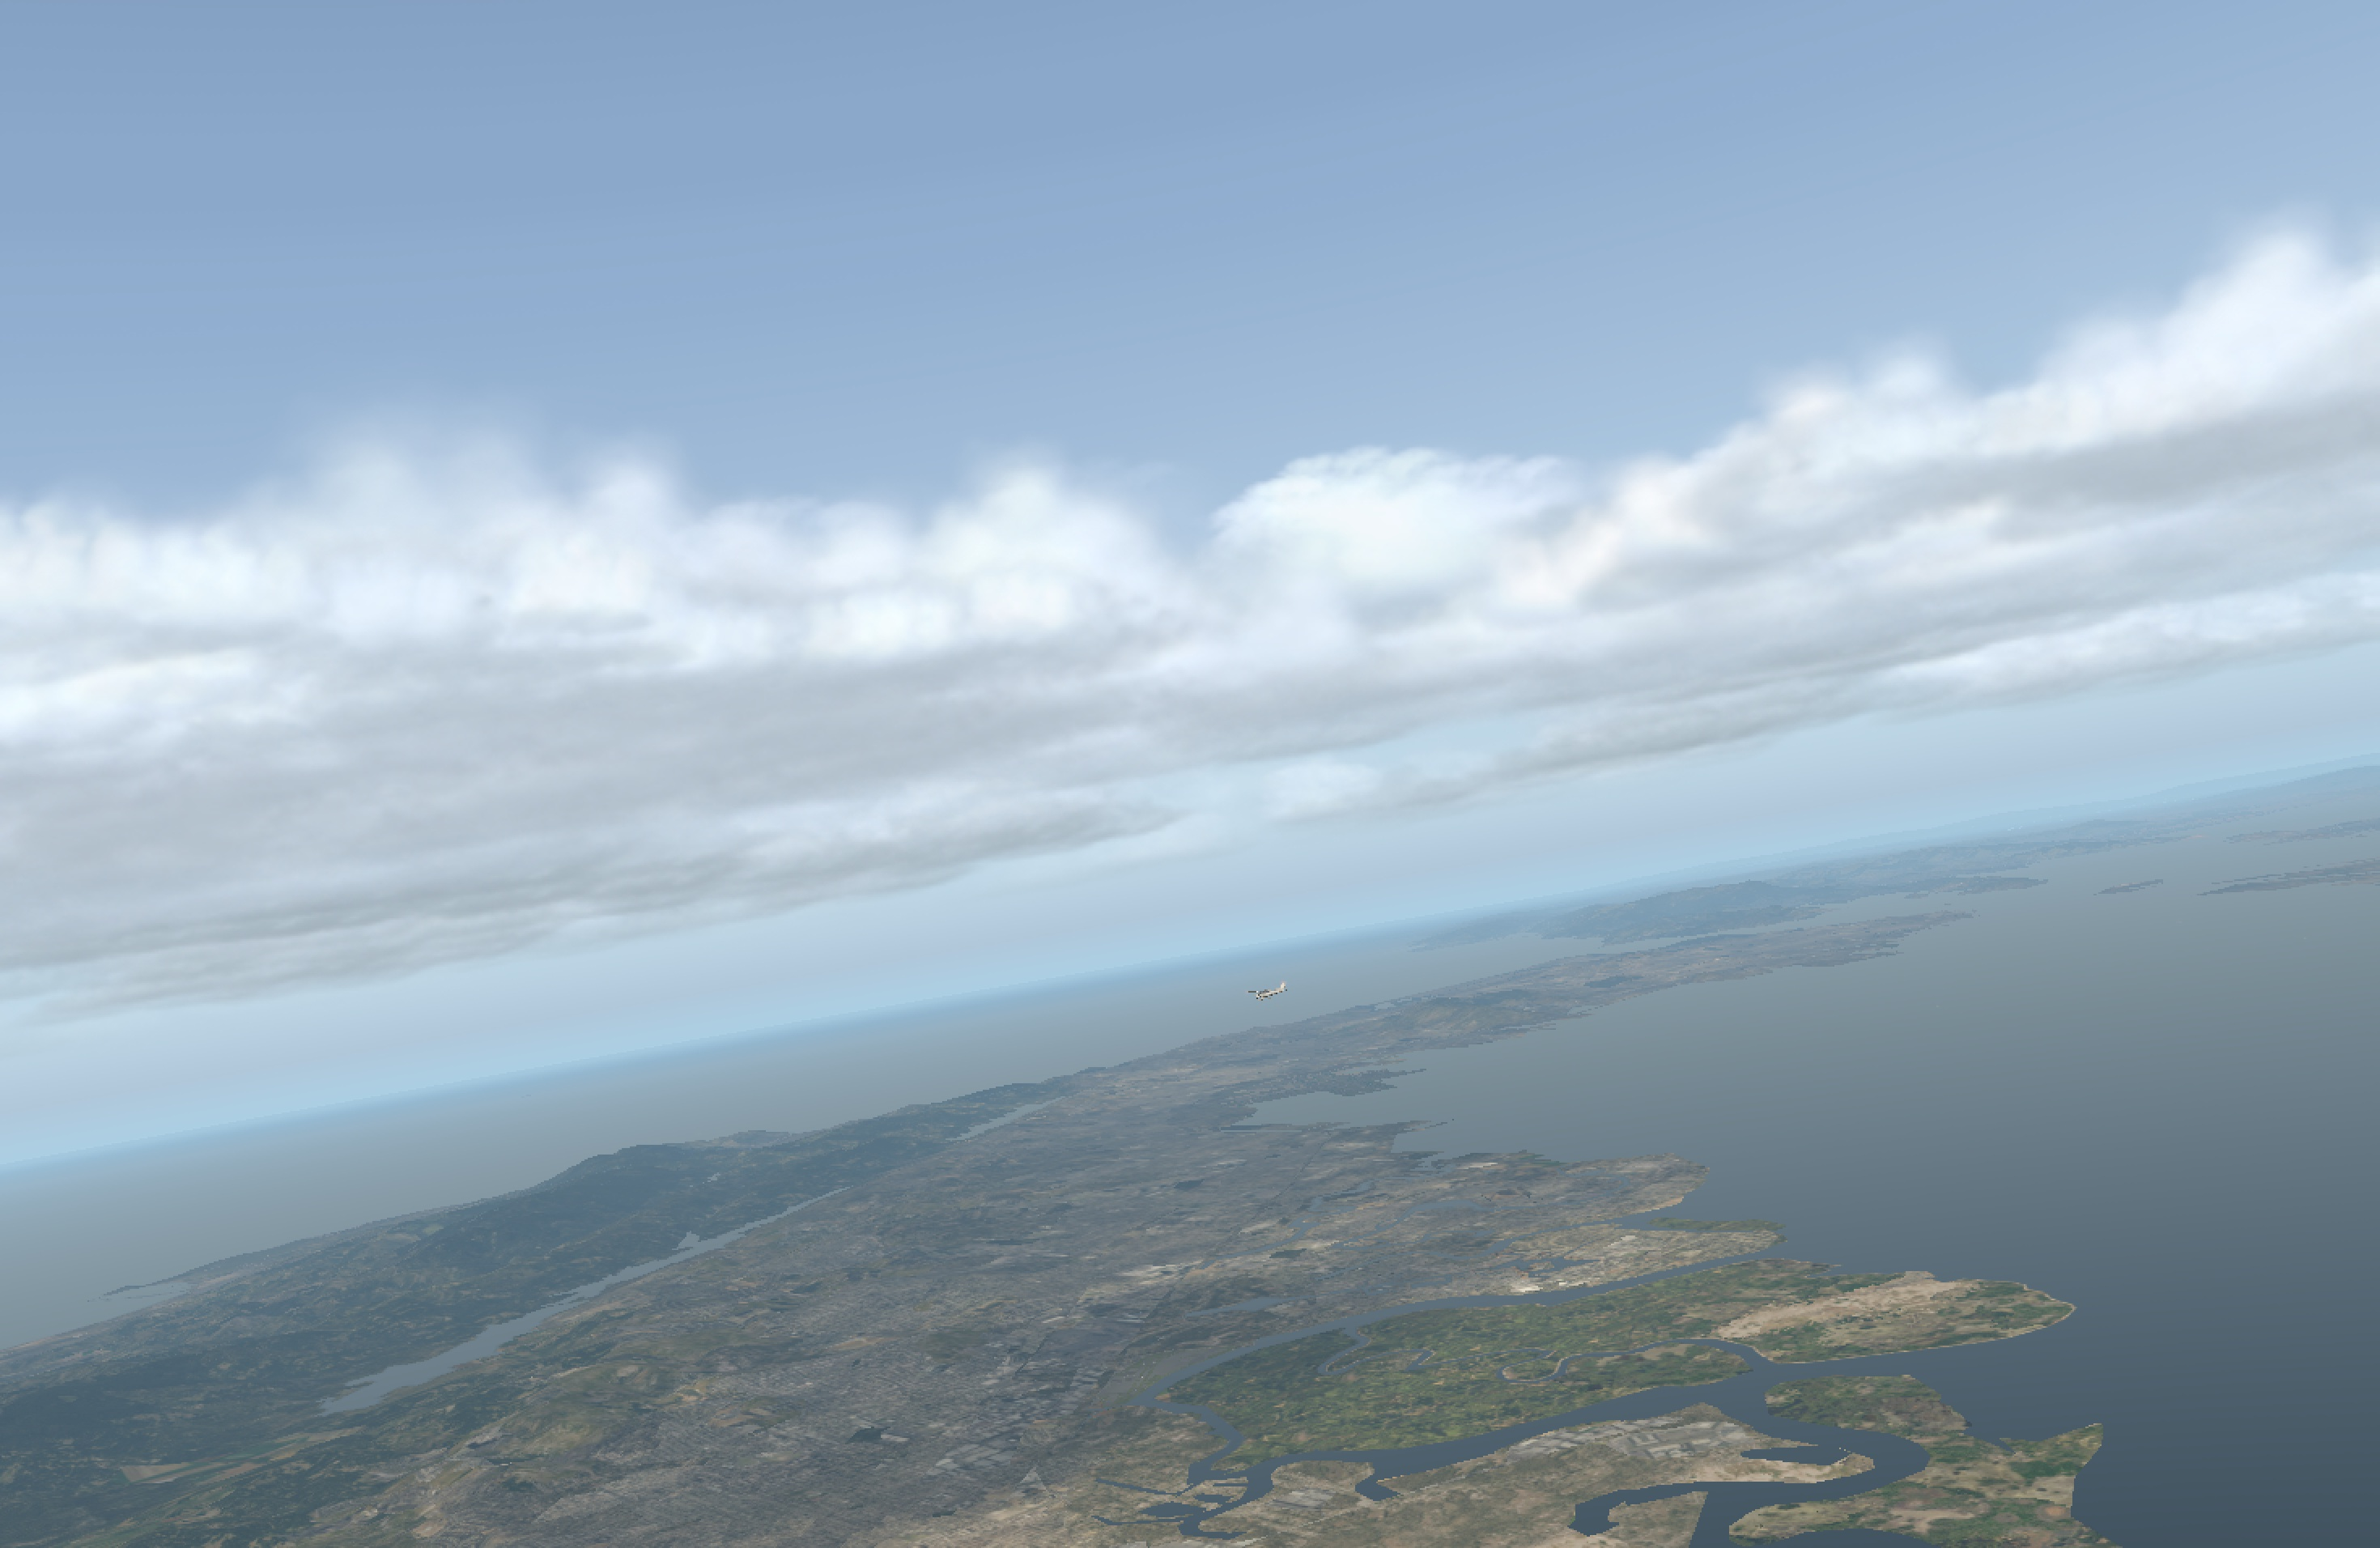aircraft: (1246, 986, 1284, 1001)
